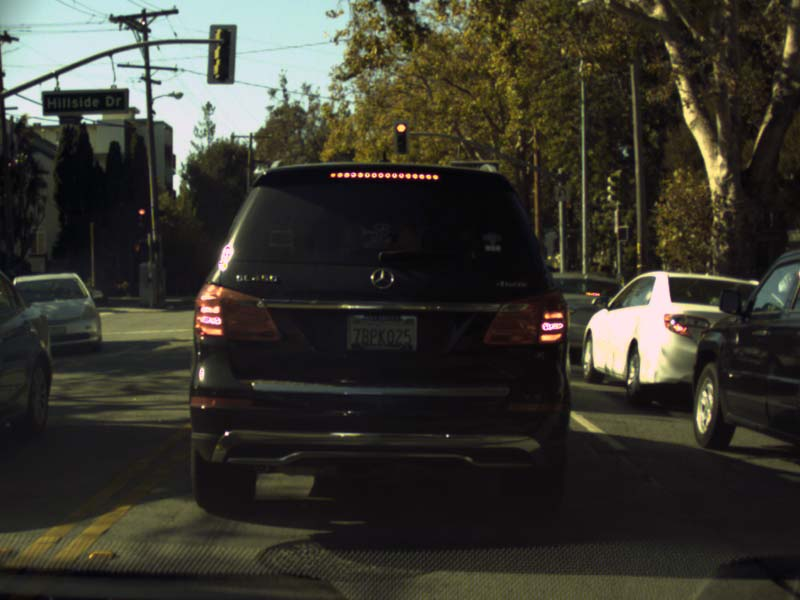Red: (395, 121, 407, 154), (136, 208, 147, 229)
